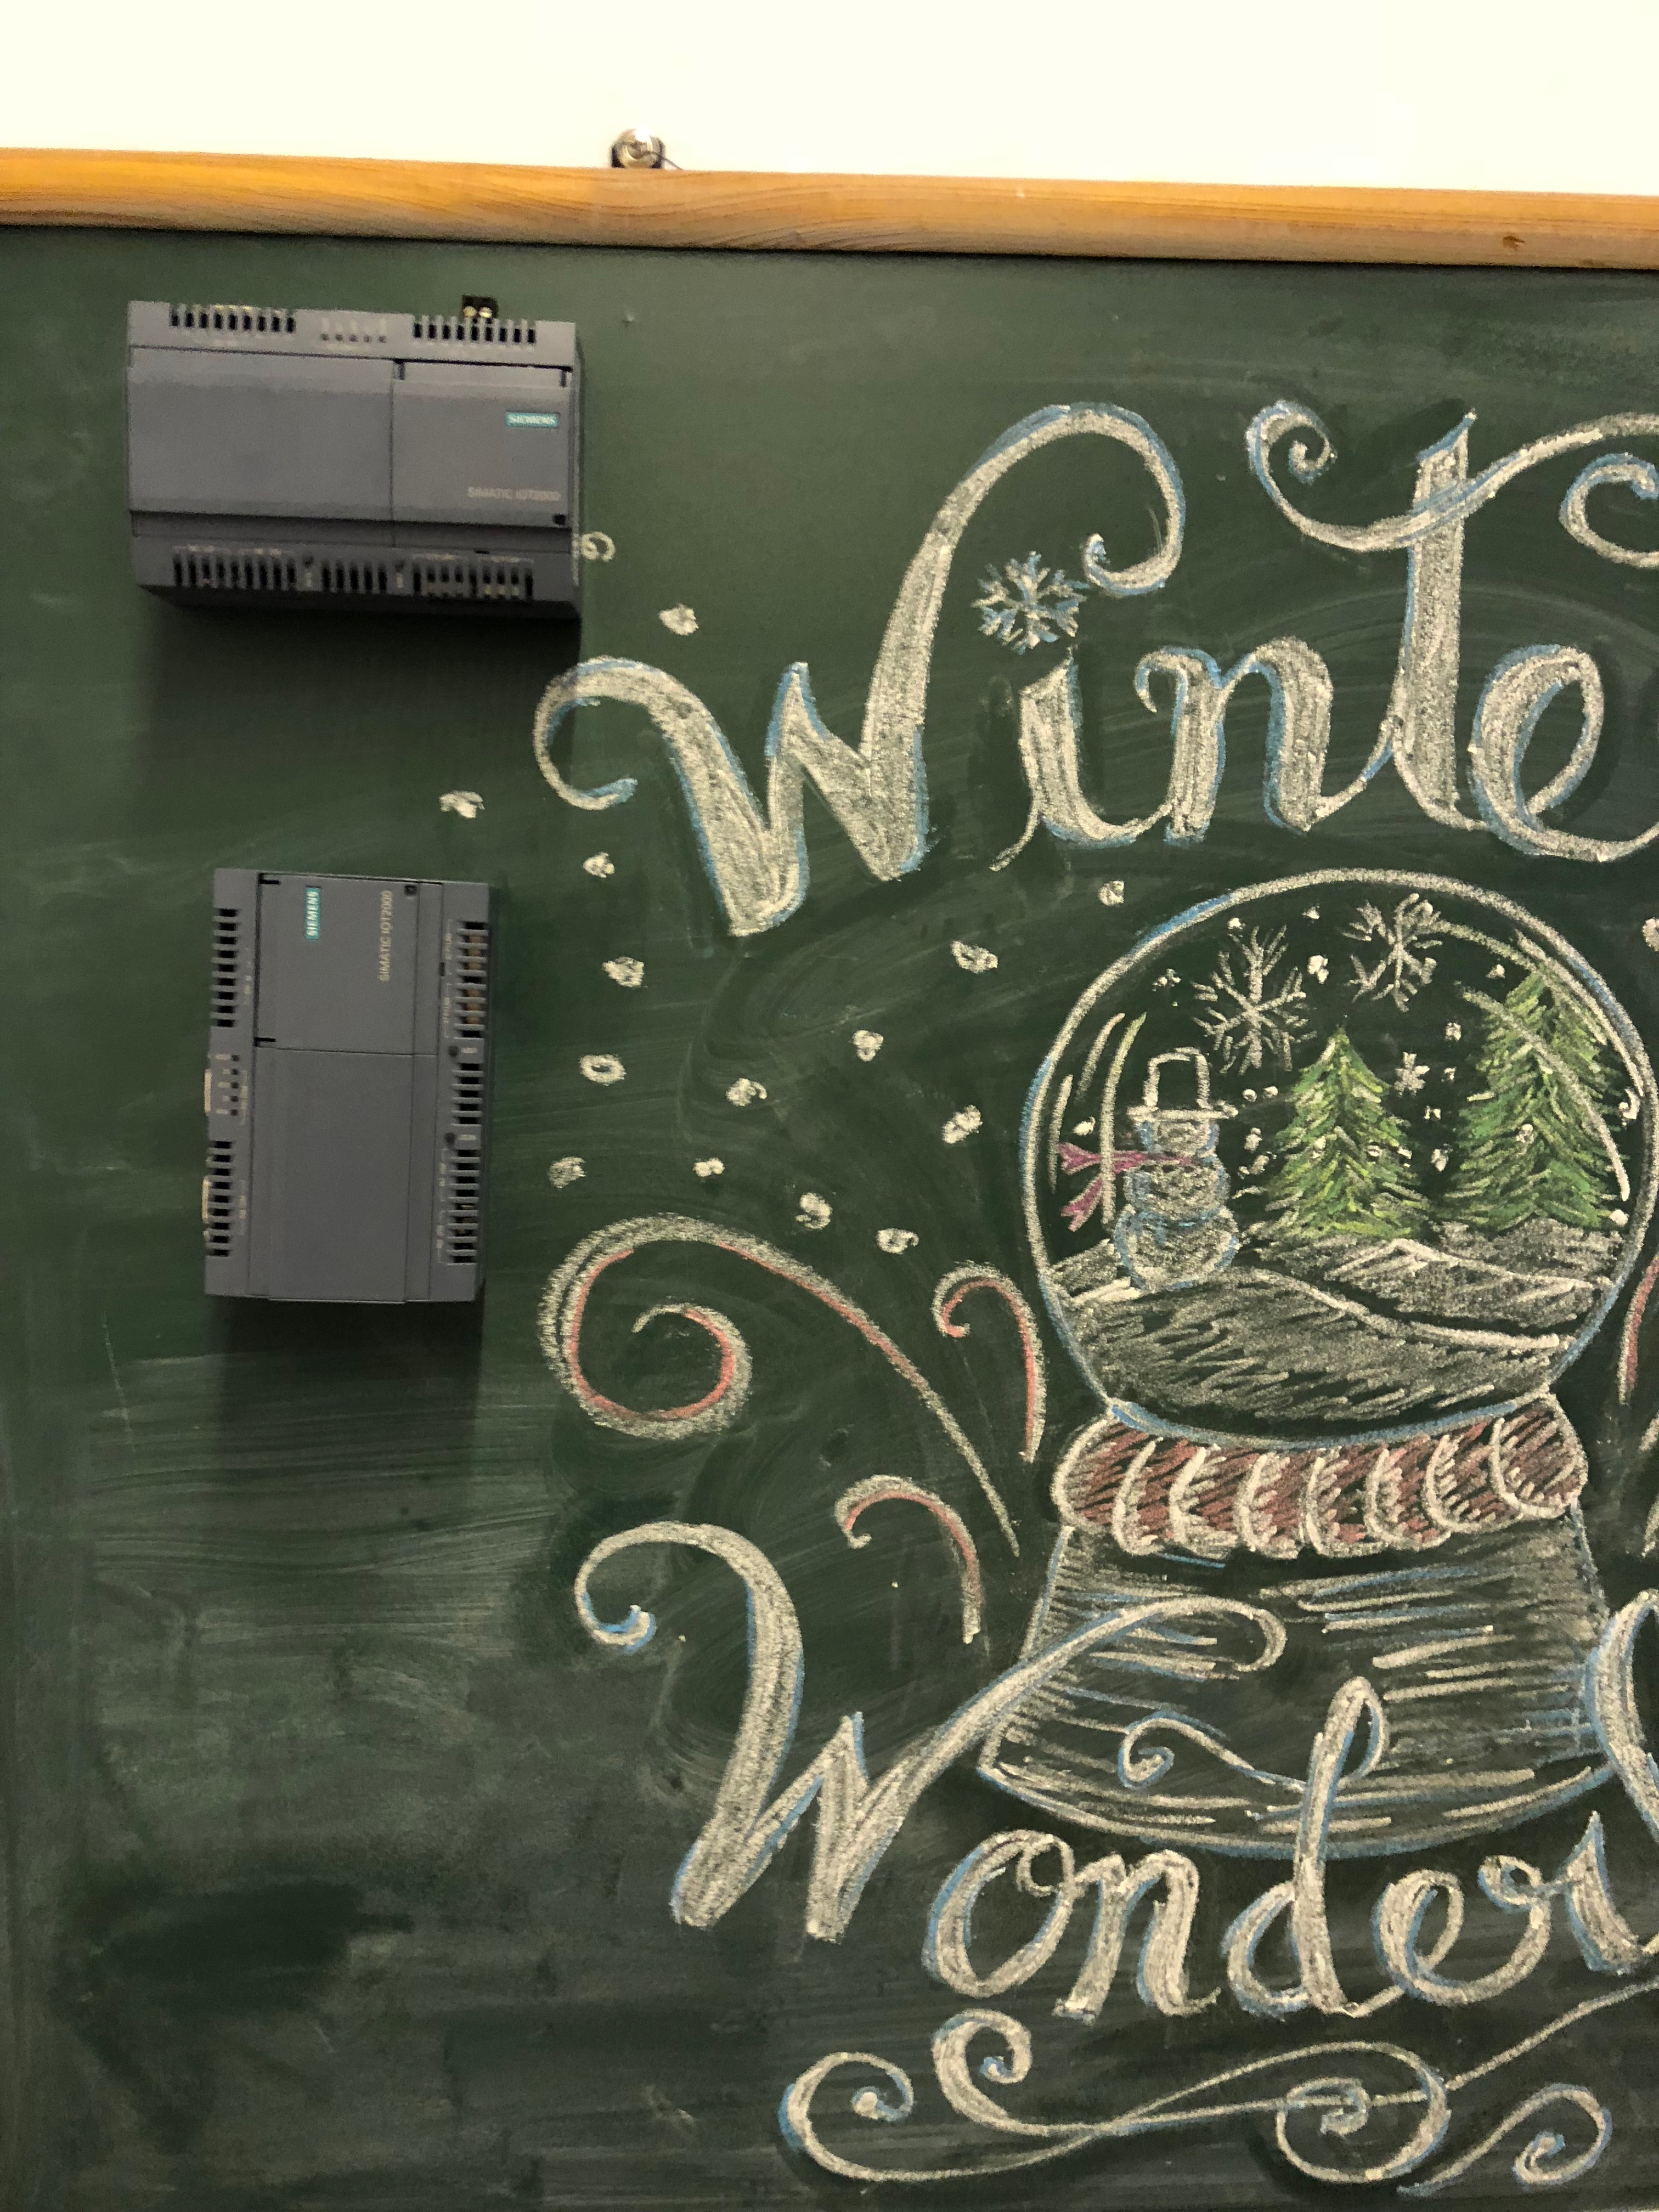device: (127, 294, 582, 622), (202, 867, 490, 1305)
